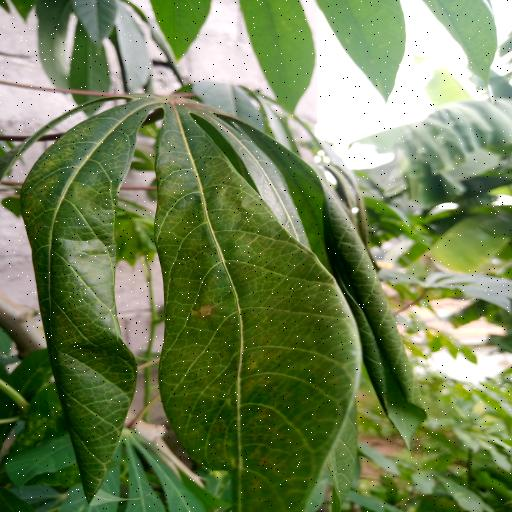Cassava_Bacterial_Disease: (22, 94, 431, 512)
